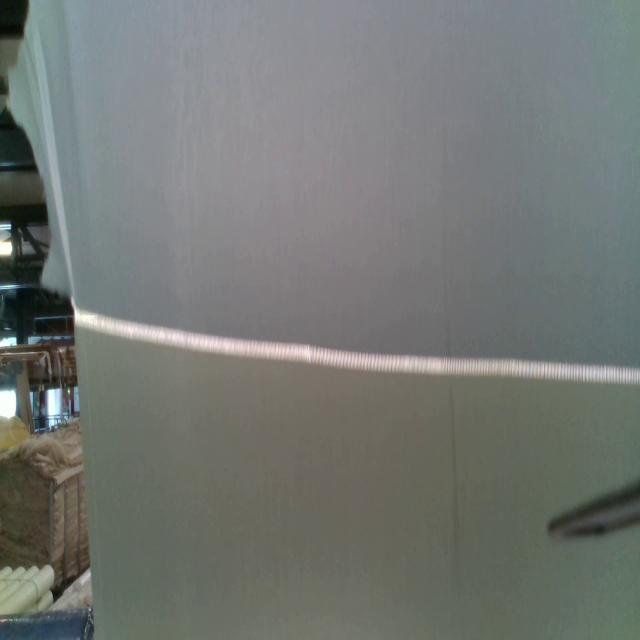crease: (443, 224, 460, 556)
